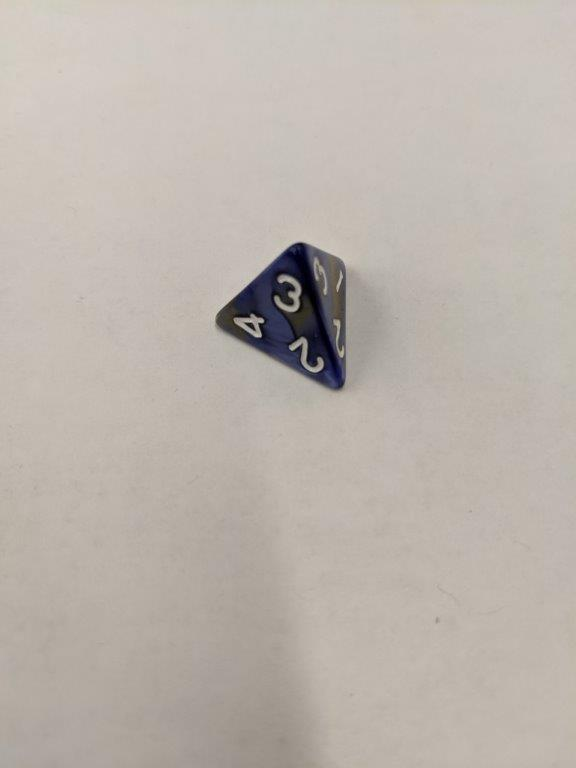d4-3: (207, 238, 354, 396)
